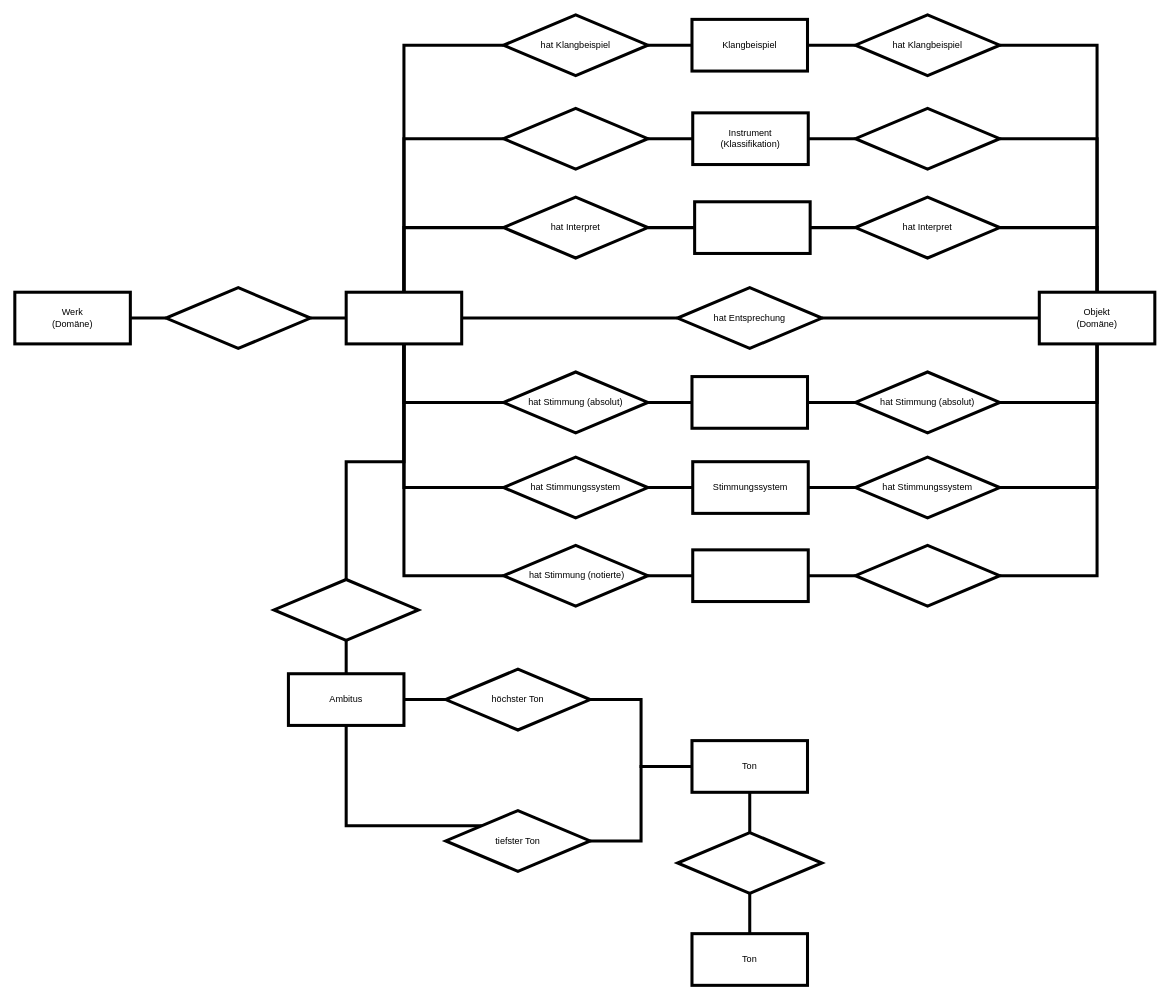
This 1169x999 diagram has some shape labels left out. Each missing label, with the centre of its shape:
"absolute Stimmung" goes at [749,402].
"entspricht" goes at [575,138].
"hat Ambitus" goes at [346,609].
"hat Besetzung (Domäne)" goes at [238,318].
"hat Stimmung (relativ)" goes at [927,575].
"Instrument nach Vokabular (Domäne)" goes at [403,317].
"klingt" goes at [749,863].
"Person" goes at [752,227].
"Stimmung" goes at [750,575].
"Typ" goes at [927,138].
